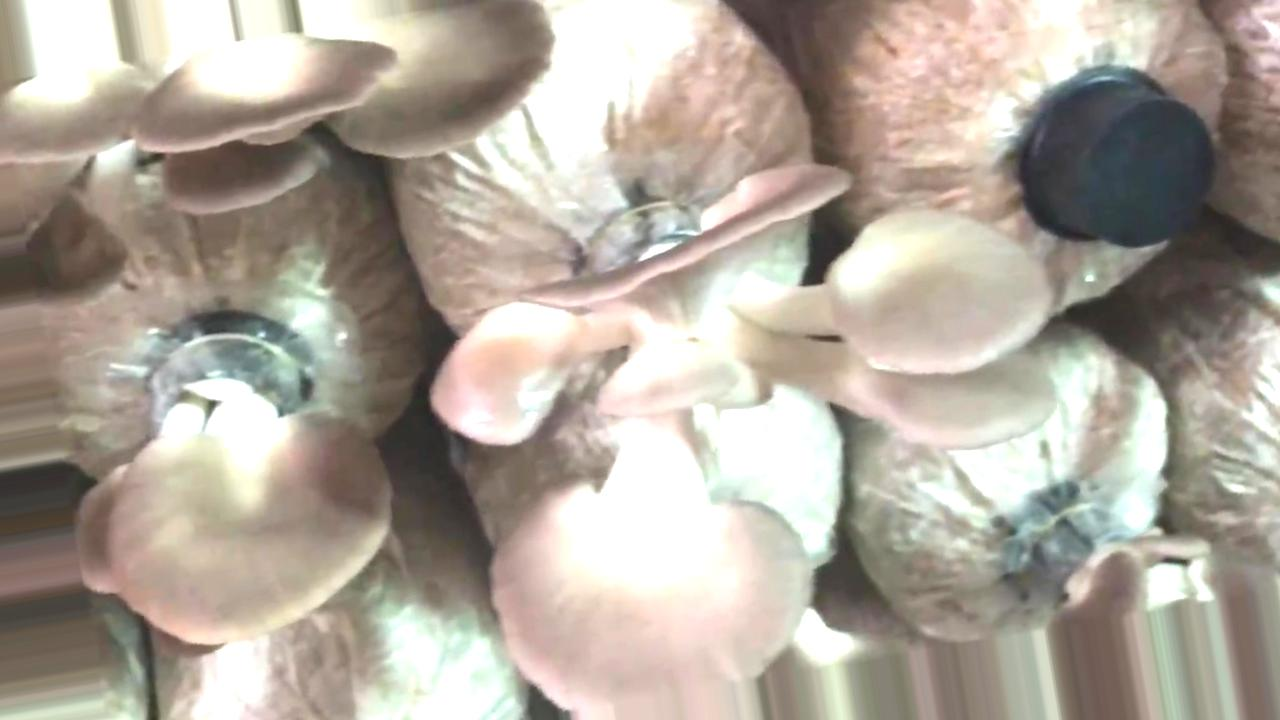nam: (430, 162, 1055, 720), (3, 1, 557, 312), (78, 320, 396, 650)
